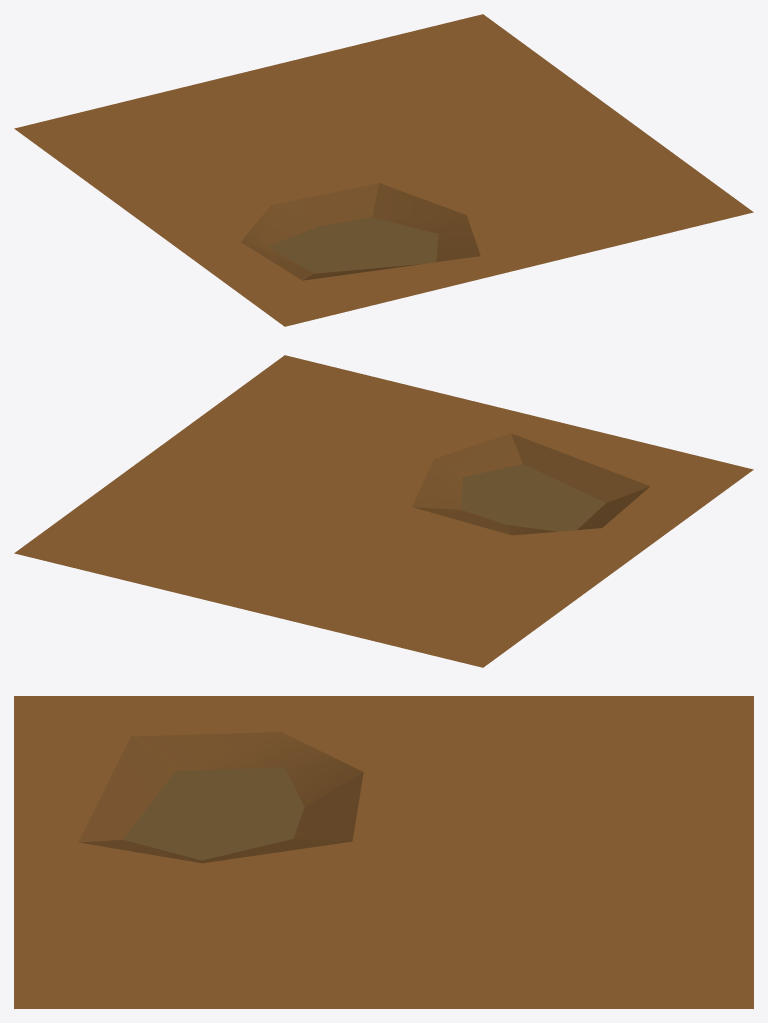
Rendered from SA_Env_Dirt_02.gltf.
The picture shows the model from 3 angles, top to bottom: view 1: azimuth 30°, elevation 25°; view 2: azimuth 150°, elevation 25°; view 3: azimuth 270°, elevation 25°; orthographic projection. The views are drawn at different scales.
Parts seen in each view (by area): view 1: SA_Env_Dirt_02; view 2: SA_Env_Dirt_02; view 3: SA_Env_Dirt_02.
Part boxes in pixels (box(x1,y1,x2,y2)): SA_Env_Dirt_02: box(14, 14, 753, 326); SA_Env_Dirt_02: box(14, 355, 753, 667); SA_Env_Dirt_02: box(14, 696, 753, 1008).
Bounding box in the file's own units: 15 × 0.3608 × 15.
1 material, 1 textured.
